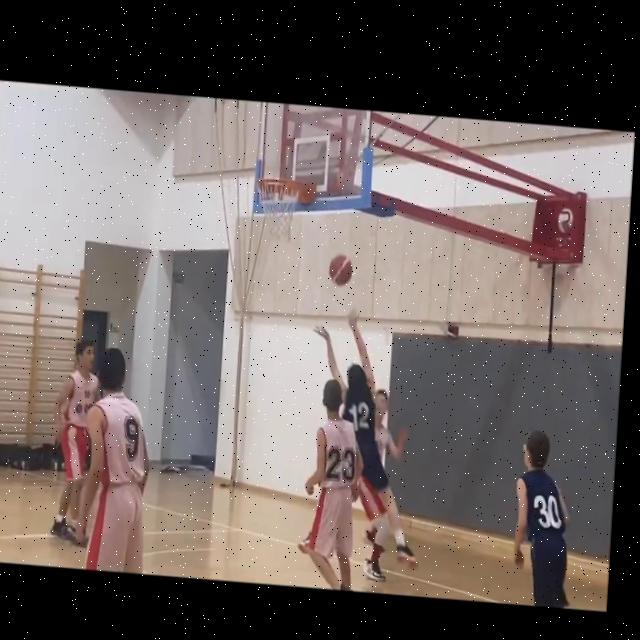basketball: (326, 250, 355, 288)
hoop: (254, 176, 304, 246)
